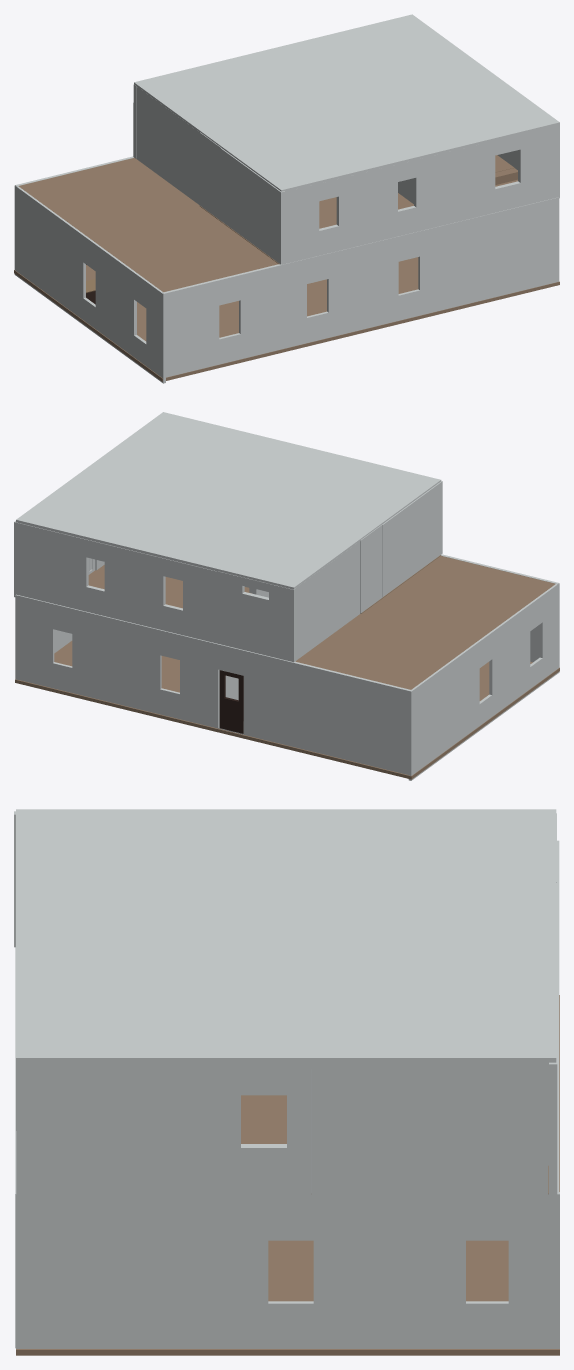
The model's file is Most_Current_House.fbx.
3 views of the same model, one above another, from view 1: azimuth 30°, elevation 25°; view 2: azimuth 150°, elevation 25°; view 3: azimuth 270°, elevation 25° (orthographic). The views are drawn at different scales.
Visible parts, largest first — view 1: pCube25, pCube8, pCube23, pCube10, pCube24, pCube6, HouseUpperFloor005:pCube6, HouseUpperFloor005:pCube3, HouseUpperFloor005:pCube14, HouseUpperFloor005:pCube5, HouseUpperFloor005:pasted__pCube1; view 2: pCube25, pCube20, pCube23, HouseUpperFloor005:pCube10, pCube24, HouseUpperFloor005:pCube2, HouseUpperFloor005:pCube3, HouseUpperFloor005:pCube6, pCube6, HouseUpperFloor005:pCube5, pCube21, HouseUpperFloor005:pasted__pCube1 (+2 smaller); view 3: pCube25, pCube9, HouseUpperFloor005:pCube17, HouseUpperFloor005:pCube11, pCube6, HouseUpperFloor005:pasted__pCube1, HouseUpperFloor005:pCube10, pCube20.
Boxes of the visible parts, left/top/right/bottom form: pCube25: left=134, top=14, right=559, bottom=191; pCube8: left=162, top=197, right=558, bottom=377; pCube23: left=18, top=158, right=278, bottom=292; pCube10: left=284, top=142, right=488, bottom=264; pCube24: left=14, top=185, right=165, bottom=383; pCube6: left=14, top=257, right=559, bottom=381; HouseUpperFloor005:pCube6: left=221, top=148, right=284, bottom=264; HouseUpperFloor005:pCube3: left=136, top=86, right=199, bottom=204; HouseUpperFloor005:pCube14: left=488, top=128, right=558, bottom=213; HouseUpperFloor005:pCube5: left=199, top=132, right=221, bottom=220; HouseUpperFloor005:pasted__pCube1: left=199, top=155, right=514, bottom=264; pCube25: left=16, top=412, right=441, bottom=589; pCube20: left=17, top=595, right=412, bottom=775; pCube23: left=295, top=556, right=555, bottom=689; HouseUpperFloor005:pCube10: left=14, top=521, right=219, bottom=643; pCube24: left=408, top=583, right=559, bottom=780; HouseUpperFloor005:pCube2: left=217, top=571, right=296, bottom=662; HouseUpperFloor005:pCube3: left=296, top=541, right=360, bottom=659; HouseUpperFloor005:pCube6: left=382, top=481, right=442, bottom=597; pCube6: left=15, top=641, right=559, bottom=779; HouseUpperFloor005:pCube5: left=360, top=524, right=382, bottom=613; pCube21: left=219, top=670, right=243, bottom=733; HouseUpperFloor005:pasted__pCube1: left=88, top=555, right=440, bottom=613; pCube25: left=16, top=809, right=556, bottom=1069; pCube9: left=16, top=1192, right=559, bottom=1348; HouseUpperFloor005:pCube17: left=16, top=1063, right=310, bottom=1197; HouseUpperFloor005:pCube11: left=311, top=1069, right=548, bottom=1197; pCube6: left=16, top=995, right=559, bottom=1355; HouseUpperFloor005:pasted__pCube1: left=241, top=1095, right=548, bottom=1194; HouseUpperFloor005:pCube10: left=549, top=881, right=557, bottom=1201; pCube20: left=557, top=840, right=559, bottom=1191.
Bounding box in the file's own units: 15.07 × 5.93 × 9.75.
